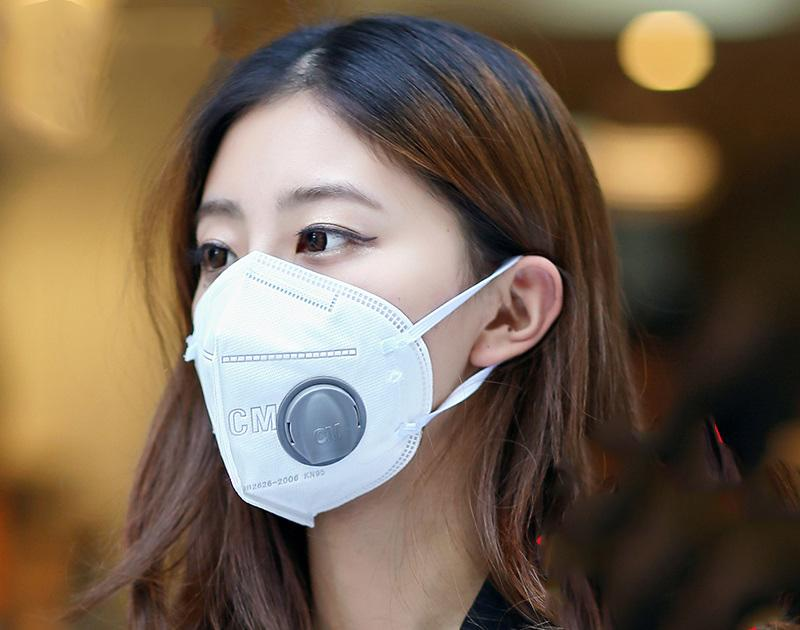OK: (169, 183, 461, 475)
